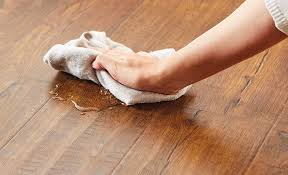Wet-floor: (51, 66, 134, 123)
